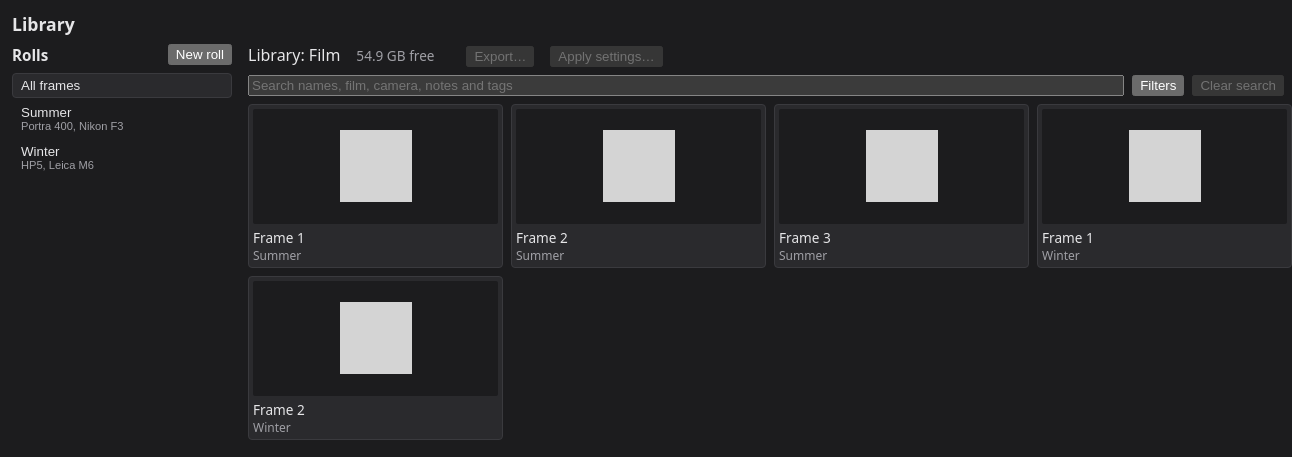
Test: LibraryView › rolls › shows the frames of the chosen roll, or all of them
The width and height of the screenshot is (1292, 457).
Click the button "Winter HP5, Leica M6" at {"x": 122, "y": 158}, box x1=12 y1=139 x2=232 y2=176
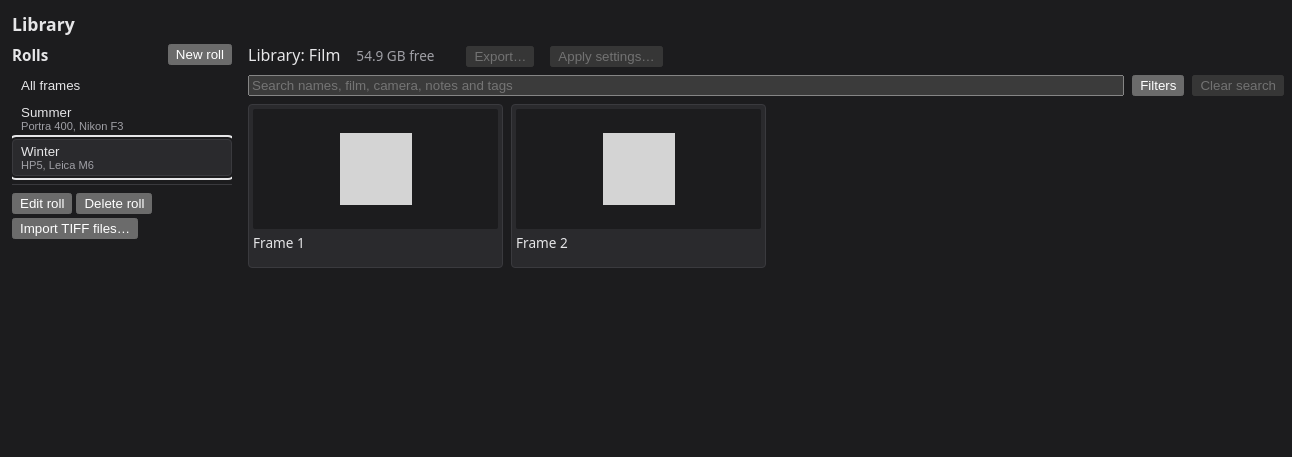
Expected: the number of cells is 2, x1=248 y1=104 x2=503 y2=268; x1=511 y1=104 x2=766 y2=268
Click the button "All frames" at {"x": 122, "y": 86}, box x1=12 y1=73 x2=232 y2=98
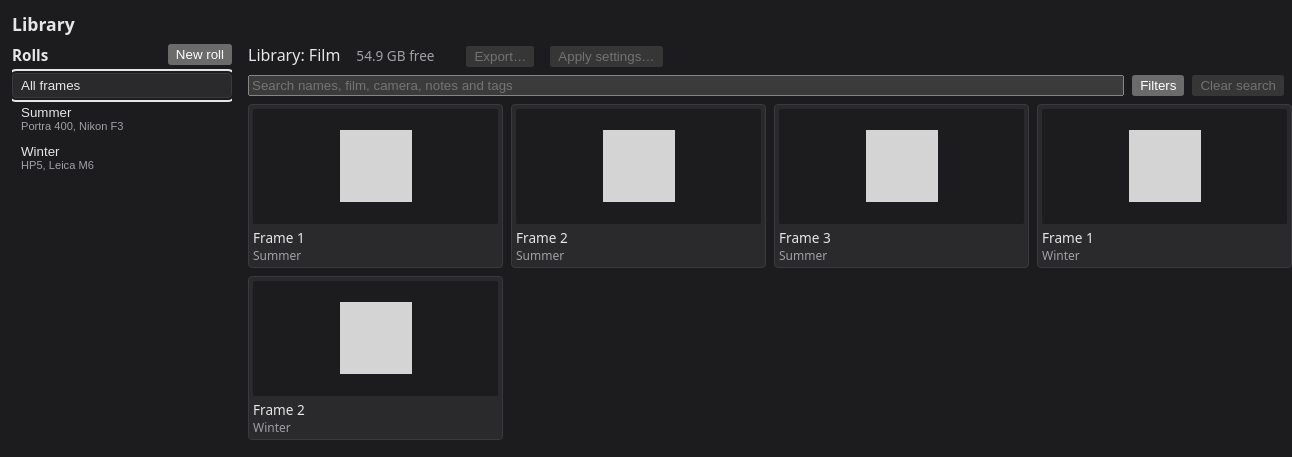
Expected: the number of cells is 5, x1=248 y1=104 x2=503 y2=268; x1=511 y1=104 x2=766 y2=268; x1=774 y1=104 x2=1029 y2=268; x1=1037 y1=104 x2=1291 y2=268; x1=248 y1=276 x2=503 y2=440
